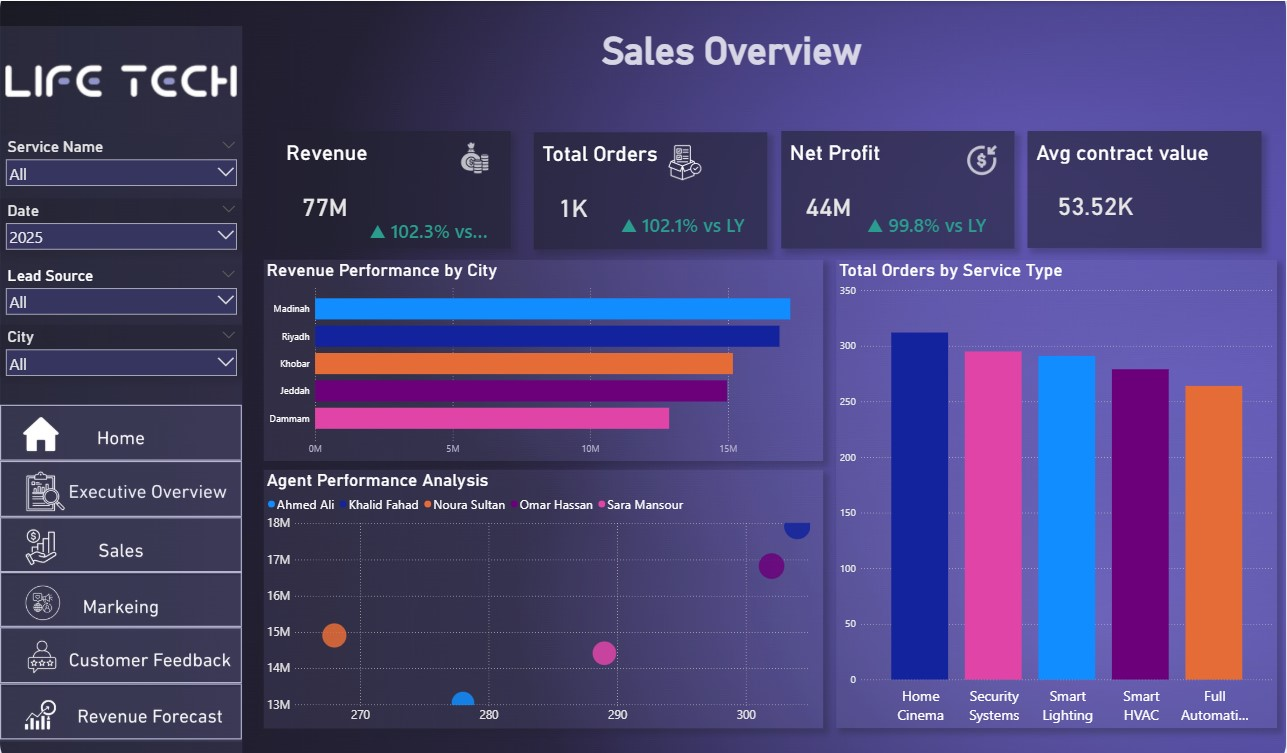

This screenshot's page, from the dashboard's own definition file:
{"tool":"powerbi","page":{"name":"Sales-Overview","canvas":[2200,1250],"ordinal":2},"visuals":[{"type":"textbox","box":[1023.5,0,652.8,95.7],"z":0},{"type":"barChart","title":"Revenue Performance by City","fields":{"Category":["DimCity.City"],"Y":["DAX-Measures.Total-Revenue"],"Series":["DimCity.City"]},"box":[452,399.3,956.5,344.3],"z":1000},{"type":"cardVisual","title":"Avg contract value","fields":{"Data":["Avg(Sales_details.ContractValue)"]},"box":[1757.6,179.3,400,200],"z":2000},{"type":"scatterChart","title":"Agent Performance Analysis","fields":{"X":["DAX-Measures.Total-Orders"],"Y":["DAX-Measures.Total-Revenue"],"Size":["DAX-Measures.Net-Operating-Profit"],"Series":["DimAgent.AgentName"]},"box":[452,758,956.5,442.4],"z":3000},{"type":"columnChart","title":"Total Orders by Service Type","fields":{"Category":["DimServiceName.ServiceName"],"Y":["DAX-Measures.Total-Orders"],"Series":["DimServiceName.ServiceName"]},"box":[1430,399.3,753.3,801.1],"z":4000},{"type":"cardVisual","title":"Revenue","fields":{"Data":["DAX-Measures.Total-Revenue"]},"box":[473.5,179.3,399.3,200.9],"z":5000},{"type":"image","box":[751,174.4,123.1,104.7],"z":6000},{"type":"cardVisual","fields":{"Data":["DAX-Measures.YoY KPI Text"]},"box":[602.6,313.3,270.2,69.3],"z":7000},{"type":"cardVisual","title":"Total Orders","fields":{"Data":["DAX-Measures.Total-Orders"]},"box":[913.5,181.7,399.3,200.9],"z":8000},{"type":"image","box":[1097.8,174.4,137.5,123.1],"z":9000},{"type":"cardVisual","fields":{"Data":["DAX-Measures.Orders KPI Text"]},"box":[1033,303.7,279.8,69.3],"z":10000},{"type":"cardVisual","title":"Net Profit","fields":{"Data":["DAX-Measures.Net-Operating-Profit"]},"box":[1336.7,179.3,399.3,200.9],"z":11000},{"type":"image","box":[1614.1,174.6,122,107.6],"z":12000},{"type":"cardVisual","fields":{"Data":["DAX-Measures.Net Profit KPI Text"]},"box":[1453.9,303.7,282.2,69.3],"z":13000},{"type":"shape","box":[0,0,414.7,1248.3],"z":14000},{"type":"slicer","fields":{"Values":["DimCity.City"]},"box":[0,510.1,415,89.9],"z":15000},{"type":"slicer","fields":{"Values":["Calender.Year","Calender.Quarter","Calender.Month"]},"box":[0,294.4,415,89.9],"z":16000},{"type":"slicer","fields":{"Values":["DimServiceName.ServiceName"]},"box":[0,186.5,415,89.9],"z":17000},{"type":"slicer","fields":{"Values":["DimLeadSource.LeadSource"]},"box":[0,406.1,414.7,89.8],"z":18000},{"type":"image","box":[0,650.4,413.7,95.7],"z":19000},{"type":"image","box":[0,746.1,413.7,95.7],"z":20000},{"type":"image","box":[0,841.7,413.7,95.7],"z":21000},{"type":"image","box":[0,937.4,413.7,95.7],"z":22000},{"type":"image","box":[0,1033,413.7,95.7],"z":23000},{"type":"image","box":[0,1128.7,413.7,95.7],"z":24000},{"type":"image","box":[9.6,0,397,186.5],"z":25000},{"type":"actionButton","box":[0,648,413.7,95.7],"z":26000},{"type":"actionButton","box":[0,743.7,413.7,95.7],"z":27000},{"type":"actionButton","box":[0,839.3,413.7,95.7],"z":28000},{"type":"actionButton","box":[0,932.6,413.7,95.7],"z":29000},{"type":"actionButton","box":[0,1028.3,413.7,95.7],"z":30000},{"type":"actionButton","box":[0,1123.9,413.7,95.7],"z":31000}]}

Visuals, with their boxes in screenshot pixels (x1, y1, x2, y2), scaled from the page's 2200x1250 canvas onto the 1287x753 screenshot:
textbox: bbox=[599, 0, 981, 58]
"Revenue Performance by City" barChart: bbox=[264, 241, 824, 448]
"Avg contract value" cardVisual: bbox=[1028, 108, 1262, 228]
"Agent Performance Analysis" scatterChart: bbox=[264, 457, 824, 723]
"Total Orders by Service Type" columnChart: bbox=[837, 241, 1277, 723]
"Revenue" cardVisual: bbox=[277, 108, 511, 229]
image: bbox=[439, 105, 511, 168]
cardVisual - DAX-Measures.YoY KPI Text: bbox=[353, 189, 511, 230]
"Total Orders" cardVisual: bbox=[534, 109, 768, 230]
image: bbox=[642, 105, 723, 179]
cardVisual - DAX-Measures.Orders KPI Text: bbox=[604, 183, 768, 225]
"Net Profit" cardVisual: bbox=[782, 108, 1016, 229]
image: bbox=[944, 105, 1016, 170]
cardVisual - DAX-Measures.Net Profit KPI Text: bbox=[851, 183, 1016, 225]
shape: bbox=[0, 0, 243, 752]
slicer - DimCity.City: bbox=[0, 307, 243, 361]
slicer - Calender.Year x Calender.Quarter: bbox=[0, 177, 243, 232]
slicer - DimServiceName.ServiceName: bbox=[0, 112, 243, 167]
slicer - DimLeadSource.LeadSource: bbox=[0, 245, 243, 299]
image: bbox=[0, 392, 242, 449]
image: bbox=[0, 449, 242, 507]
image: bbox=[0, 507, 242, 565]
image: bbox=[0, 565, 242, 622]
image: bbox=[0, 622, 242, 680]
image: bbox=[0, 680, 242, 738]
image: bbox=[6, 0, 238, 112]
actionButton: bbox=[0, 390, 242, 448]
actionButton: bbox=[0, 448, 242, 506]
actionButton: bbox=[0, 506, 242, 563]
actionButton: bbox=[0, 562, 242, 619]
actionButton: bbox=[0, 619, 242, 677]
actionButton: bbox=[0, 677, 242, 735]
